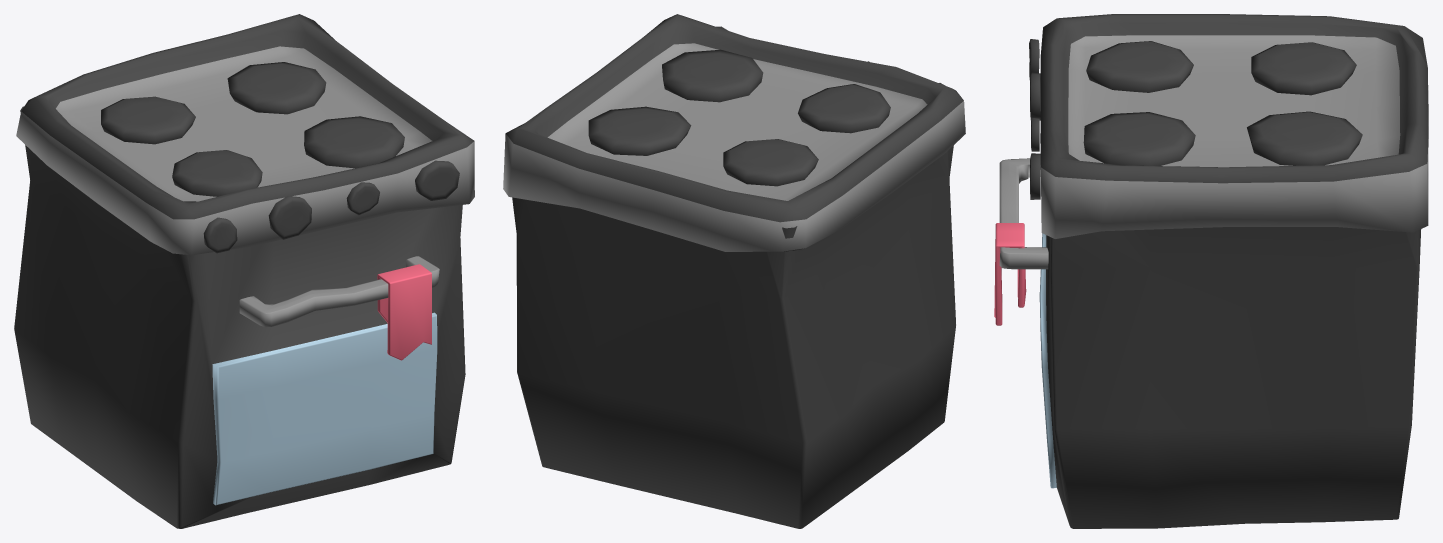
File: props_four.fbx
The picture shows the model from 3 angles, left to right: view 1: azimuth 30°, elevation 25°; view 2: azimuth 150°, elevation 25°; view 3: azimuth 270°, elevation 25°; orthographic projection. The views are drawn at different scales.
Visible parts, largest first — view 1: Cylinder.008; view 2: Cylinder.008; view 3: Cylinder.008.
Boxes of the visible parts, box(x1,y1,x2,y2) form: Cylinder.008: box(14, 14, 474, 528); Cylinder.008: box(503, 14, 965, 528); Cylinder.008: box(994, 14, 1428, 528).
Size of the model in its own units: 1.04 by 1.16 by 1.1.
